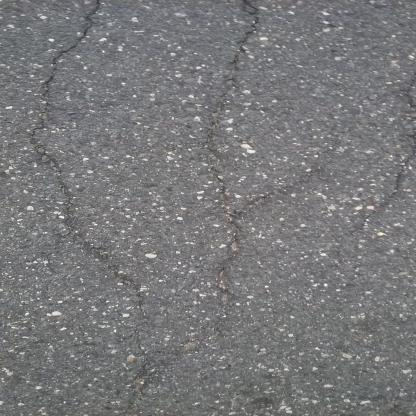Cracks: (16, 0, 153, 332), (196, 3, 274, 315)
